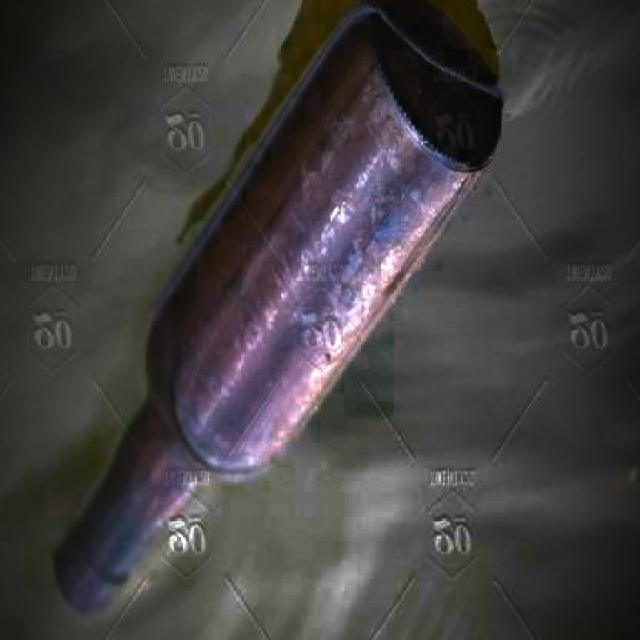gbottle: (52, 2, 503, 616)
